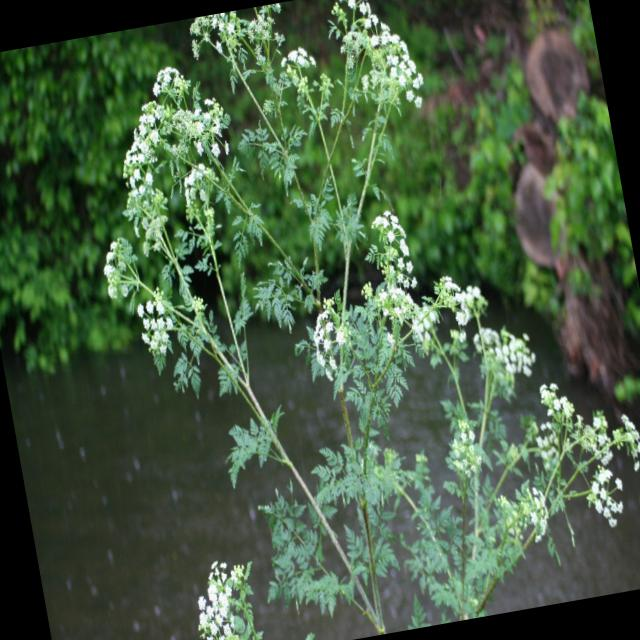Poisonous-Hemlock: (80, 0, 527, 640), (487, 327, 640, 608)
